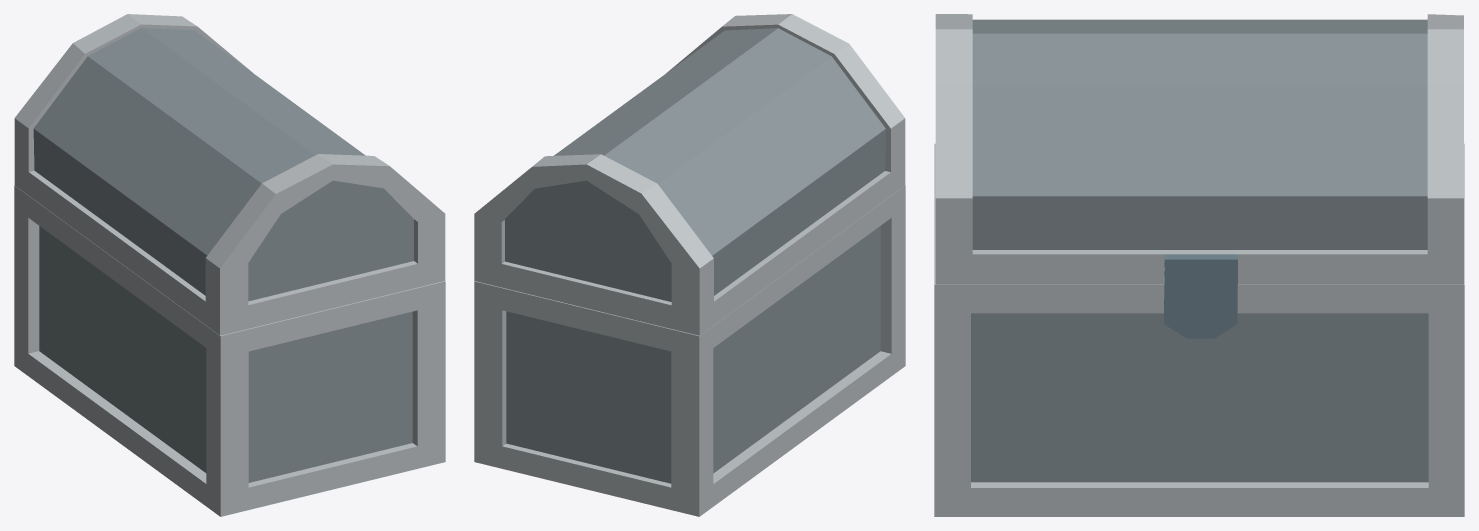
File: Chest-A03.fbx
The picture shows the model from 3 angles, left to right: view 1: azimuth 30°, elevation 25°; view 2: azimuth 150°, elevation 25°; view 3: azimuth 270°, elevation 25°; orthographic projection. The views are drawn at different scales.
Parts seen in each view (by area): view 1: Chest-A-top, Chest-A03; view 2: Chest-A-top, Chest-A03; view 3: Chest-A-top, Chest-A03.
Boxes of the visible parts, box(x1,y1,x2,y2) form: Chest-A-top: box(14, 14, 445, 335); Chest-A03: box(14, 185, 445, 516); Chest-A-top: box(474, 14, 905, 335); Chest-A03: box(474, 185, 905, 516); Chest-A-top: box(935, 14, 1463, 338); Chest-A03: box(934, 143, 1464, 516).
Bounding box in the file's own units: 65.82 × 87.36 × 101.
